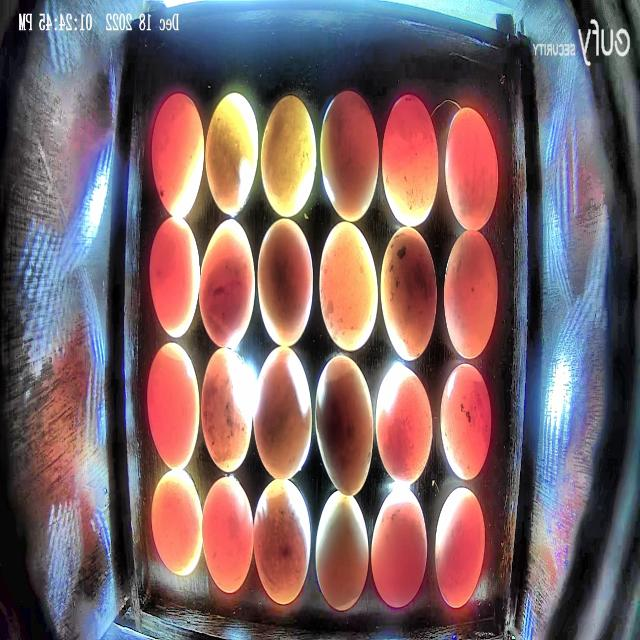DE: (316, 353, 374, 495), (253, 347, 313, 481), (380, 226, 438, 361), (319, 221, 379, 351), (382, 92, 439, 227), (320, 91, 378, 221), (253, 477, 311, 605), (199, 218, 256, 348), (443, 228, 499, 360), (258, 218, 314, 347), (371, 489, 429, 608), (204, 92, 259, 217), (445, 106, 499, 231), (260, 96, 316, 216), (377, 365, 433, 485), (147, 342, 199, 470), (151, 92, 204, 216), (201, 347, 253, 472), (315, 490, 368, 610), (434, 487, 486, 609), (202, 476, 254, 594), (150, 217, 200, 339), (440, 364, 492, 481), (152, 469, 203, 576)
